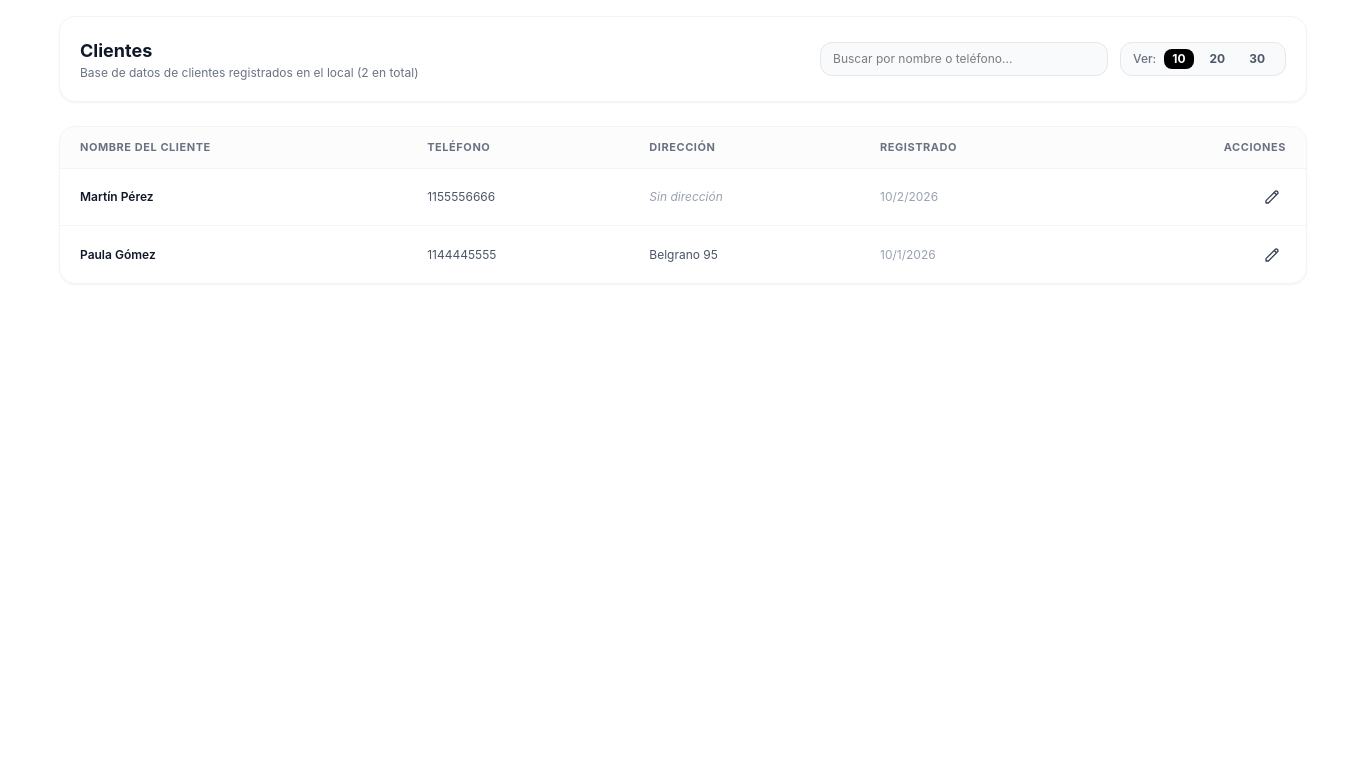
ClientesView › si el servidor rechaza la edición muestra su motivo y deja el formulario abierto
The width and height of the screenshot is (1366, 768).
Expected: the text "Paula Gómez" is shown, [60, 226, 407, 283]
Click the button titled "Editar cliente" in the row of "Paula Gómez" at [1272, 255], box [1258, 240, 1286, 269]
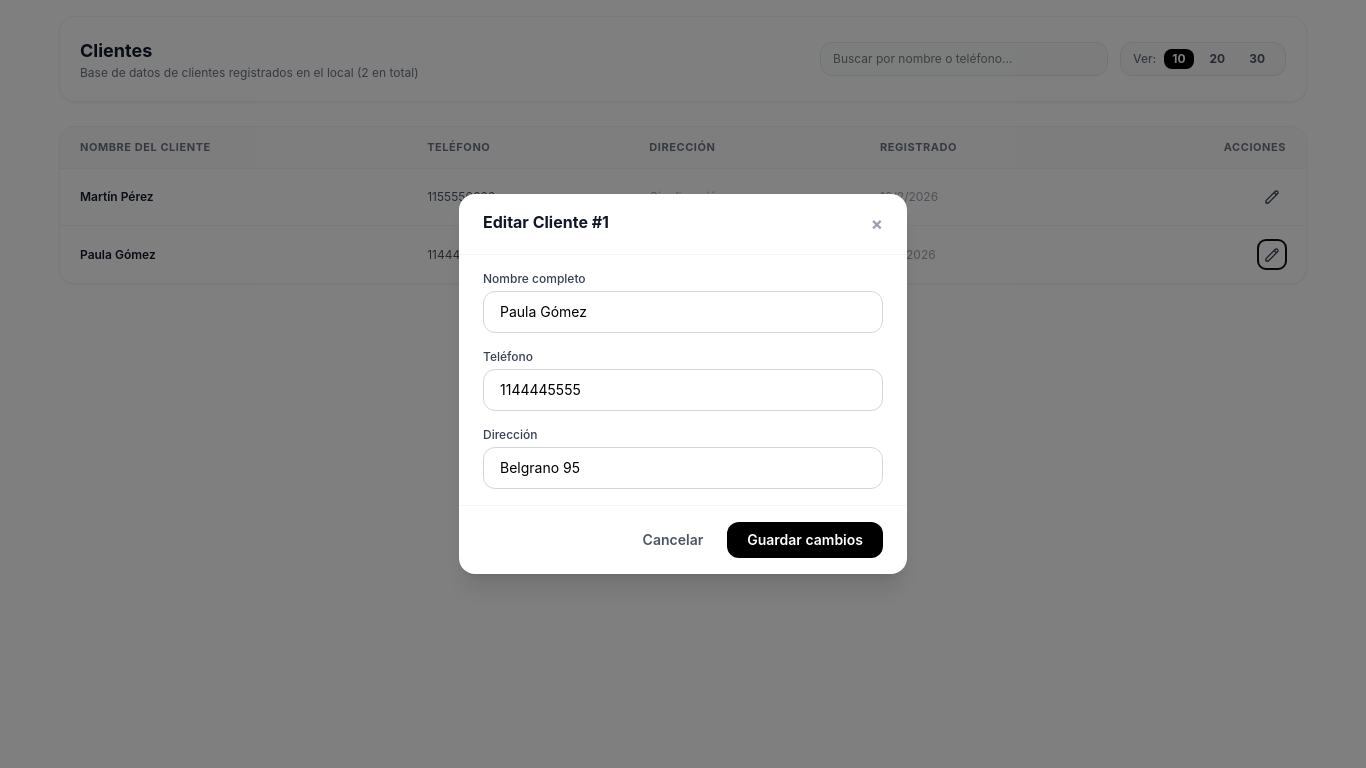
Click the button "Guardar cambios" at [805, 540], box [727, 522, 883, 558]
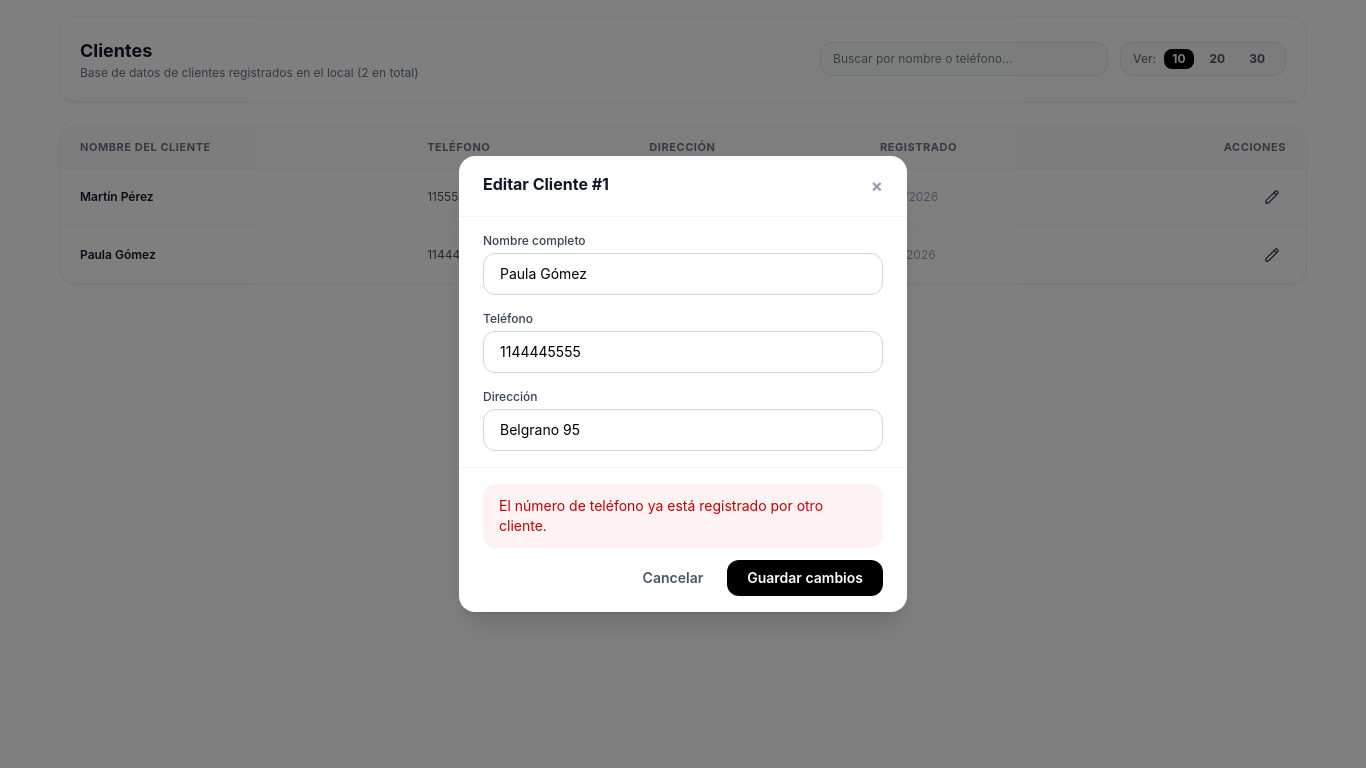
Result: the button "Guardar cambios" is enabled at [727, 560, 883, 596]
Result: the text "El número de teléfono ya está registrado por otro cliente." is shown at [483, 484, 883, 548]
